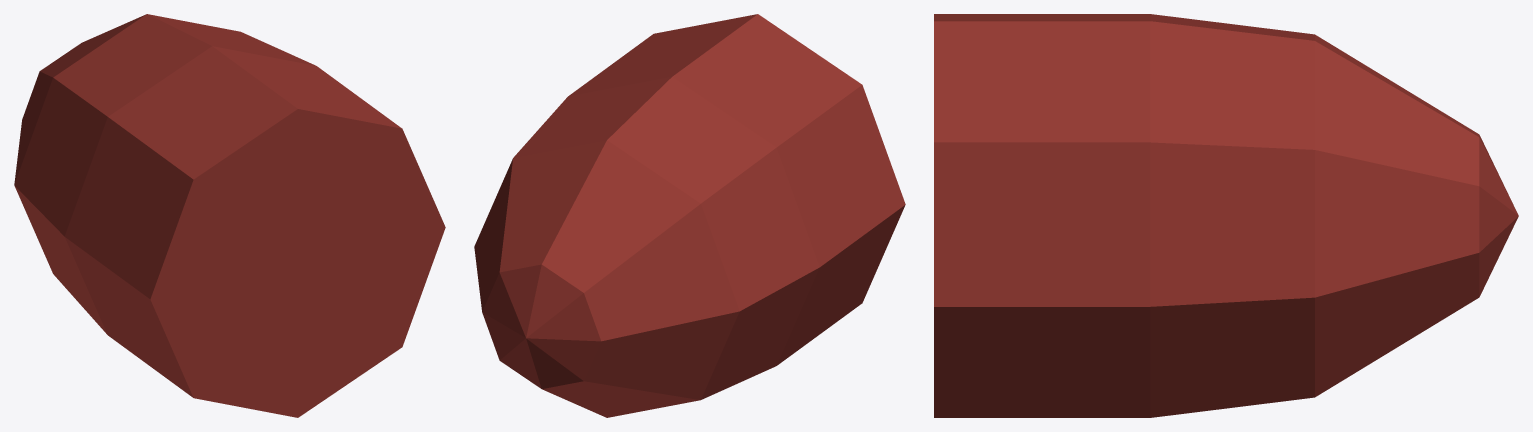
The model's file is bullet.glb.
3 renders of one model, left to right at view 1: azimuth 30°, elevation 25°; view 2: azimuth 150°, elevation 25°; view 3: azimuth 270°, elevation 25°, orthographic. The views are drawn at different scales.
Visible parts, largest first — view 1: 45-acp-bullet; view 2: 45-acp-bullet; view 3: 45-acp-bullet.
Boxes of the visible parts, x1,y1,x2,y2 form: 45-acp-bullet: (14,14,445,417); 45-acp-bullet: (474,14,905,417); 45-acp-bullet: (934,14,1518,417).
Bounding box in the file's own units: 0.0118 × 0.0118 × 0.0161.
